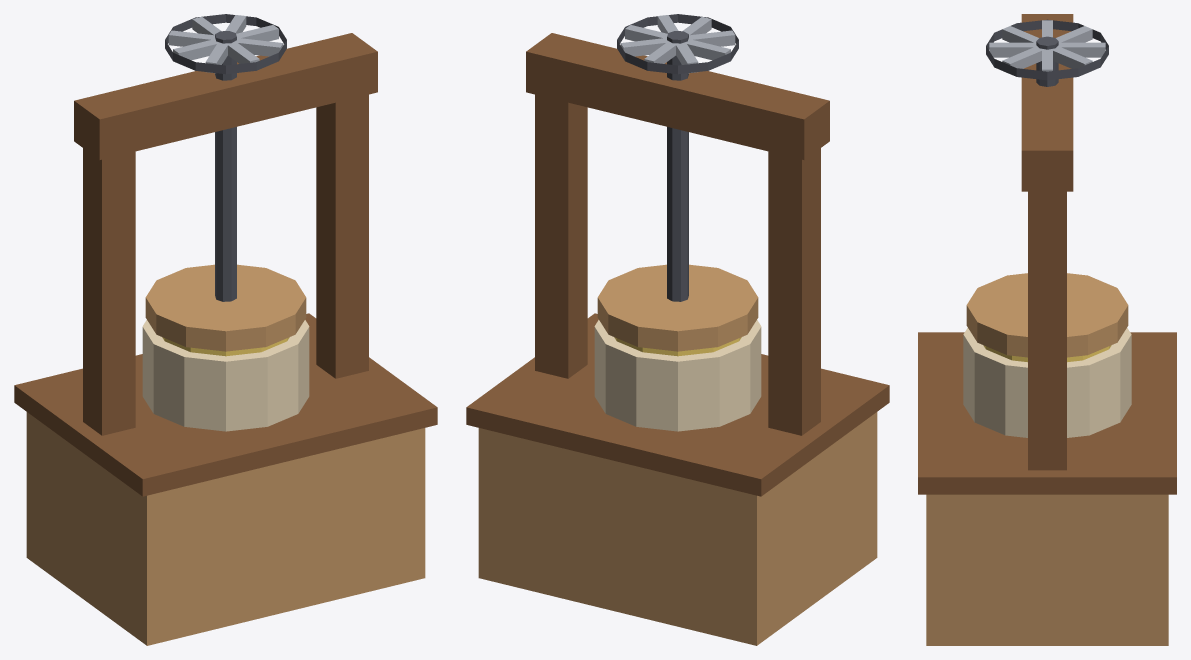
File: cheese_press.obj
3 views of the same model, side by side, from view 1: azimuth 30°, elevation 25°; view 2: azimuth 150°, elevation 25°; view 3: azimuth 270°, elevation 25° (orthographic).
Parts seen in each view (by area): view 1: frame, wheel; view 2: frame, wheel; view 3: frame, wheel.
Part boxes in pixels (left/top/right/bottom): frame: left=14, top=33, right=437, bottom=645; wheel: left=165, top=14, right=286, bottom=80; frame: left=466, top=33, right=889, bottom=645; wheel: left=617, top=14, right=738, bottom=80; frame: left=918, top=14, right=1176, bottom=645; wheel: left=986, top=19, right=1108, bottom=86.
Size of the model in its own units: 1.06 by 1.83 by 0.8.
